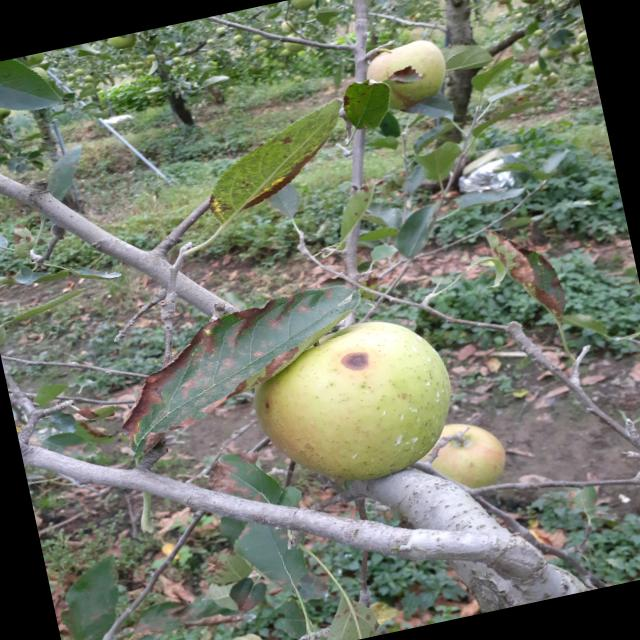rotten: (236, 296, 483, 514)
